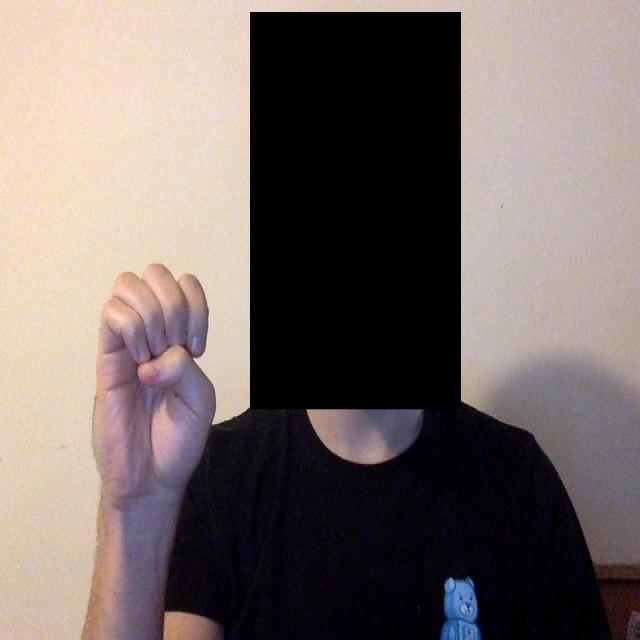E: (91, 254, 240, 540)
